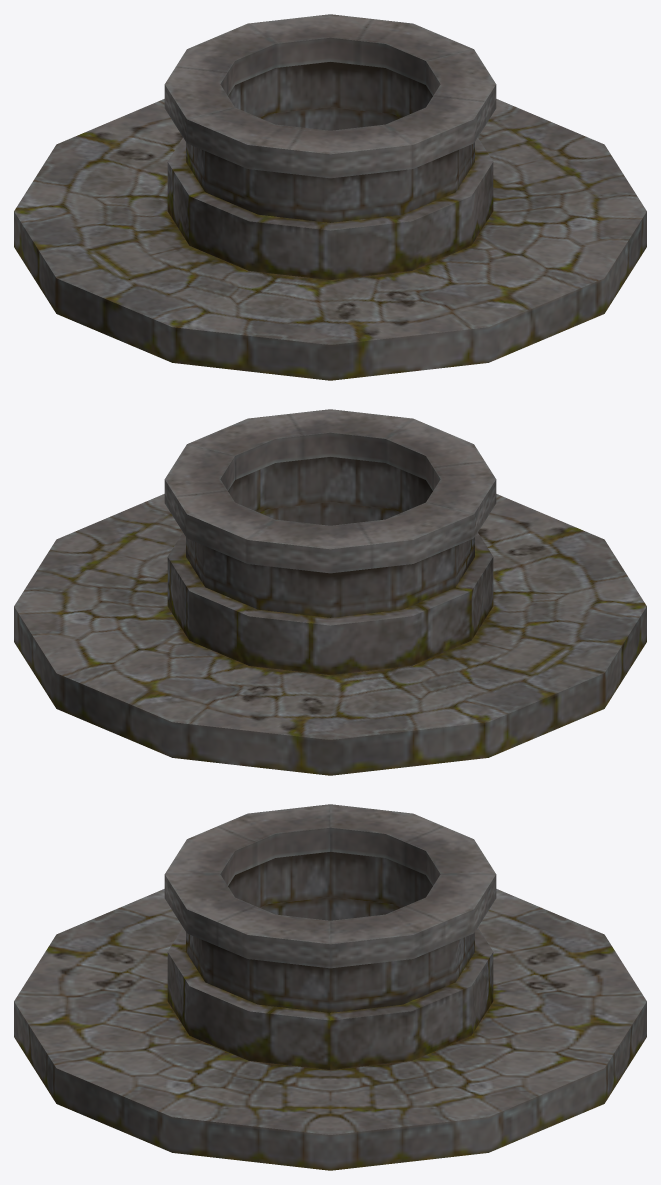
File: i_ly_jing03.FBX
3 renders of one model, top to bottom at view 1: azimuth 30°, elevation 25°; view 2: azimuth 150°, elevation 25°; view 3: azimuth 270°, elevation 25°, orthographic.
Visible parts, largest first — view 1: i_ly_jing03; view 2: i_ly_jing03; view 3: i_ly_jing03.
Part boxes in pixels (x1=…): i_ly_jing03: x1=14, y1=14, x2=646, y2=380; i_ly_jing03: x1=14, y1=409, x2=646, y2=775; i_ly_jing03: x1=14, y1=804, x2=646, y2=1170.
Bounding box in the file's own units: 2.77 × 0.786 × 2.77.
